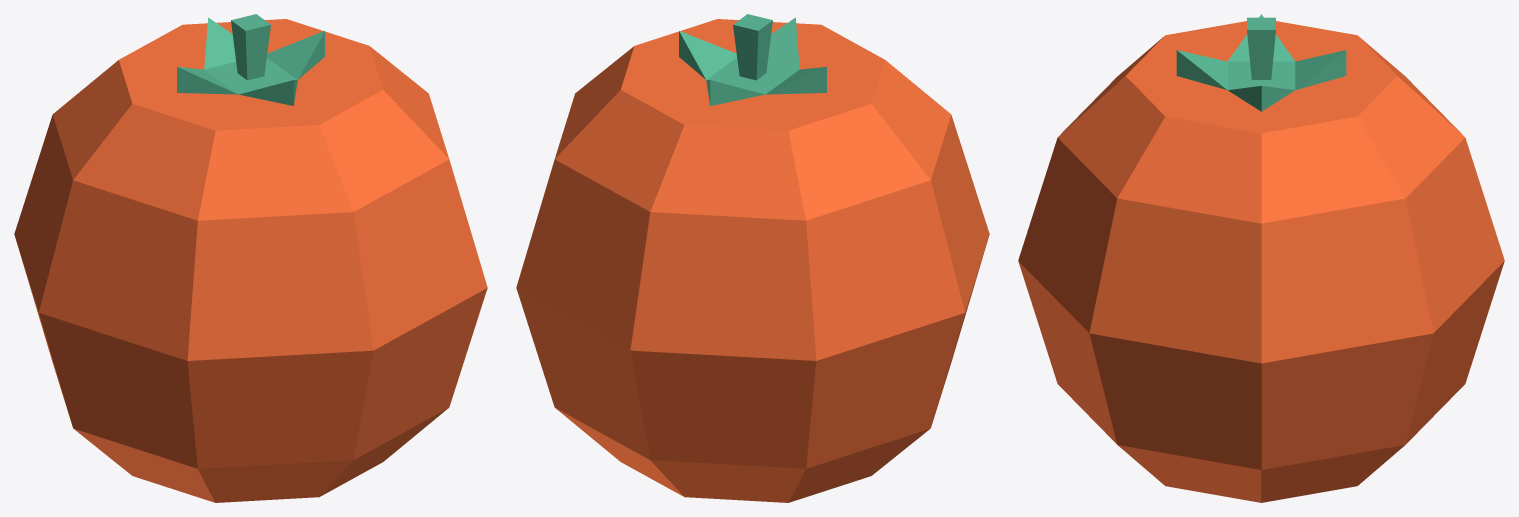
Rendered from orange.fbx.
3 renders of one model, left to right at view 1: azimuth 30°, elevation 25°; view 2: azimuth 150°, elevation 25°; view 3: azimuth 270°, elevation 25°, orthographic.
Visible parts, largest first — view 1: orange; view 2: orange; view 3: orange.
Boxes of the visible parts, x1=… form: orange: x1=14, y1=14, x2=487, y2=502; orange: x1=516, y1=14, x2=989, y2=502; orange: x1=1018, y1=14, x2=1504, y2=502.
Bounding box in the file's own units: 1.7 × 1.62 × 1.7.
